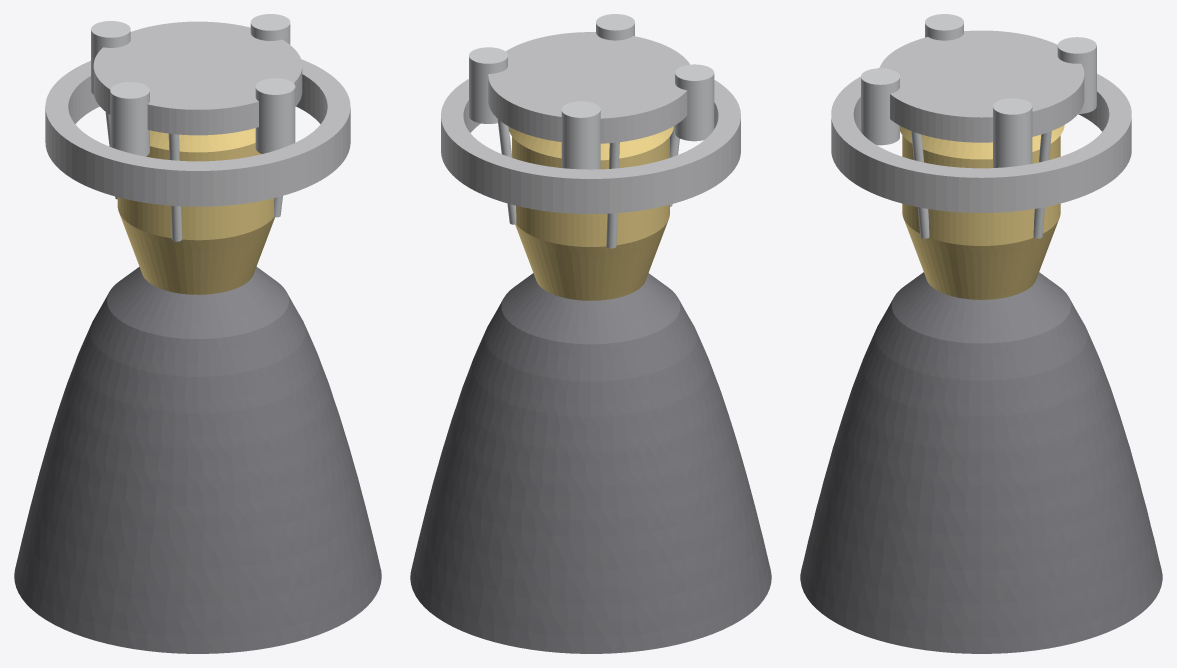
Rendered from prop19_descent_engine_s.glb.
3 views of the same model, side by side, from view 1: azimuth 30°, elevation 25°; view 2: azimuth 150°, elevation 25°; view 3: azimuth 270°, elevation 25° (orthographic).
Parts seen in each view (by area): view 1: bell, gimbal_ring, mount, chamber, throttle_valves, injector_dome, thrust_struts; view 2: bell, mount, gimbal_ring, chamber, throttle_valves, injector_dome, thrust_struts; view 3: bell, gimbal_ring, mount, chamber, throttle_valves, injector_dome, thrust_struts.
Part boxes in pixels (left/top/right/bottom): bell: left=14, top=266, right=381, bottom=653; gimbal_ring: left=45, top=59, right=350, bottom=206; mount: left=93, top=21, right=302, bottom=135; chamber: left=117, top=143, right=274, bottom=294; throttle_valves: left=91, top=14, right=295, bottom=156; injector_dome: left=150, top=128, right=255, bottom=152; thrust_struts: left=105, top=112, right=282, bottom=241; bell: left=410, top=273, right=771, bottom=653; mount: left=488, top=32, right=689, bottom=143; gimbal_ring: left=441, top=79, right=740, bottom=214; chamber: left=512, top=137, right=669, bottom=300; throttle_valves: left=469, top=14, right=714, bottom=169; injector_dome: left=508, top=126, right=673, bottom=160; thrust_struts: left=497, top=119, right=679, bottom=248; bell: left=800, top=272, right=1162, bottom=653; gimbal_ring: left=831, top=67, right=1131, bottom=212; mount: left=879, top=30, right=1084, bottom=142; chamber: left=902, top=135, right=1060, bottom=299; throttle_valves: left=861, top=14, right=1096, bottom=167; injector_dome: left=900, top=125, right=1064, bottom=159; thrust_struts: left=911, top=131, right=1051, bottom=238.
Size of the model in its own units: 0.7175 by 1.12 by 0.717.
